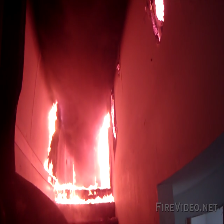fire_h: (96, 113, 111, 189), (54, 190, 115, 205), (48, 176, 99, 191), (47, 101, 57, 156)
fire_l: (151, 13, 161, 42), (111, 98, 117, 140), (155, 1, 165, 21), (44, 158, 54, 175), (72, 166, 76, 184), (149, 1, 152, 10)
